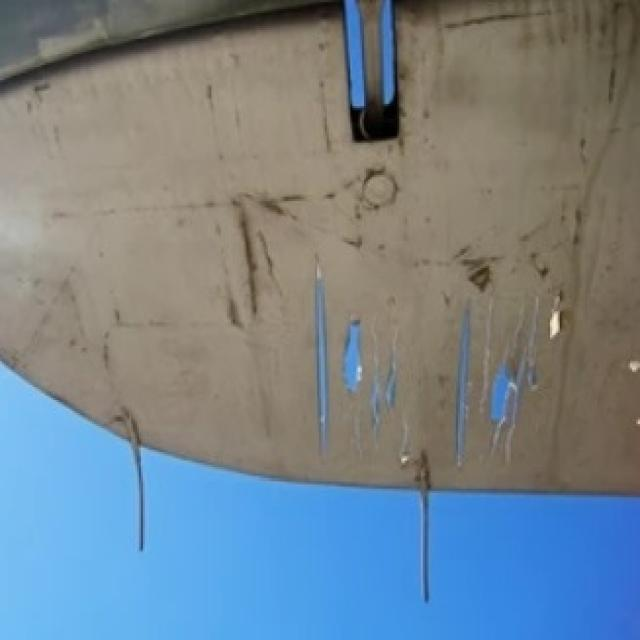crack: (303, 256, 546, 472)
